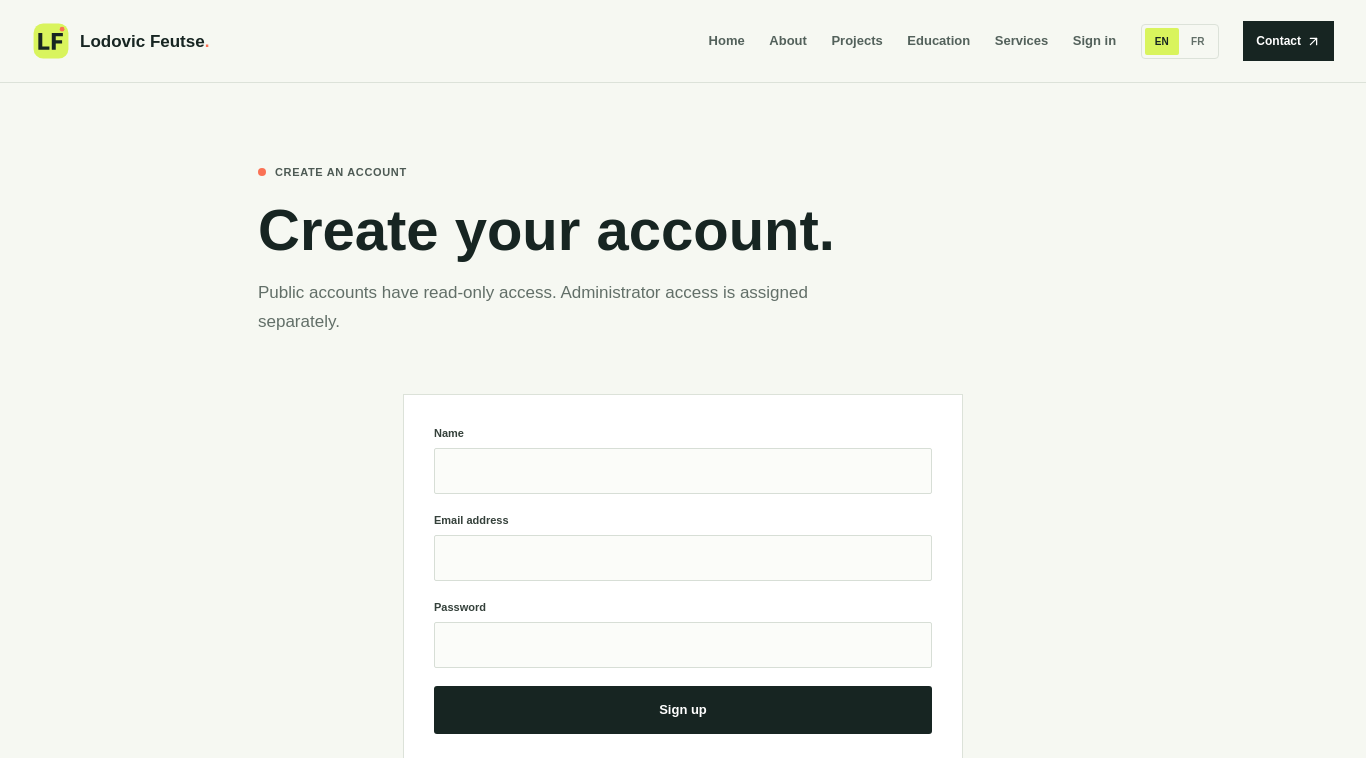
authentication and dashboard › reports an unexpected sign-up failure
This screenshot has width=1366, height=758.
Type "Alex Example" into the field labelled "Name" at (683, 471), box [434,448,932,494]
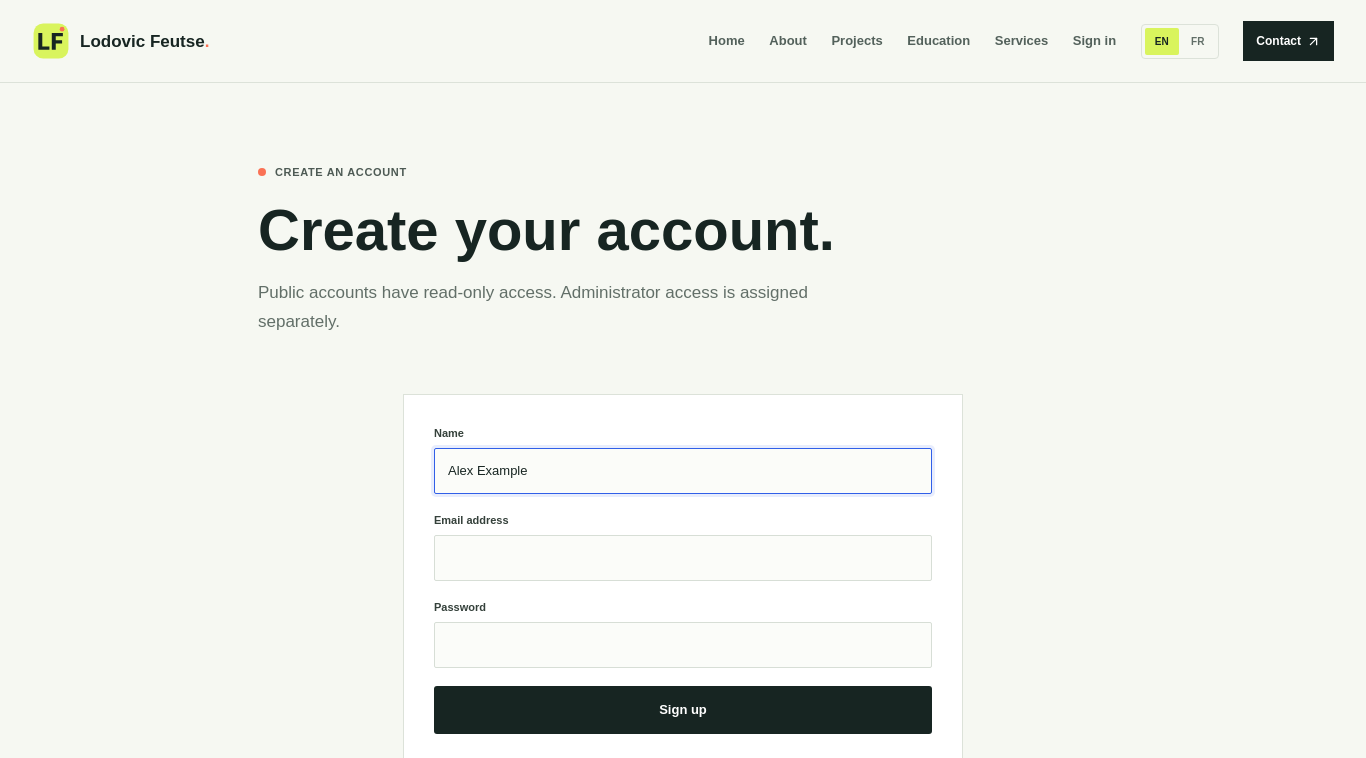
Type "alex@example.test" into the field labelled "Email address" at (683, 558), box [434,535,932,581]
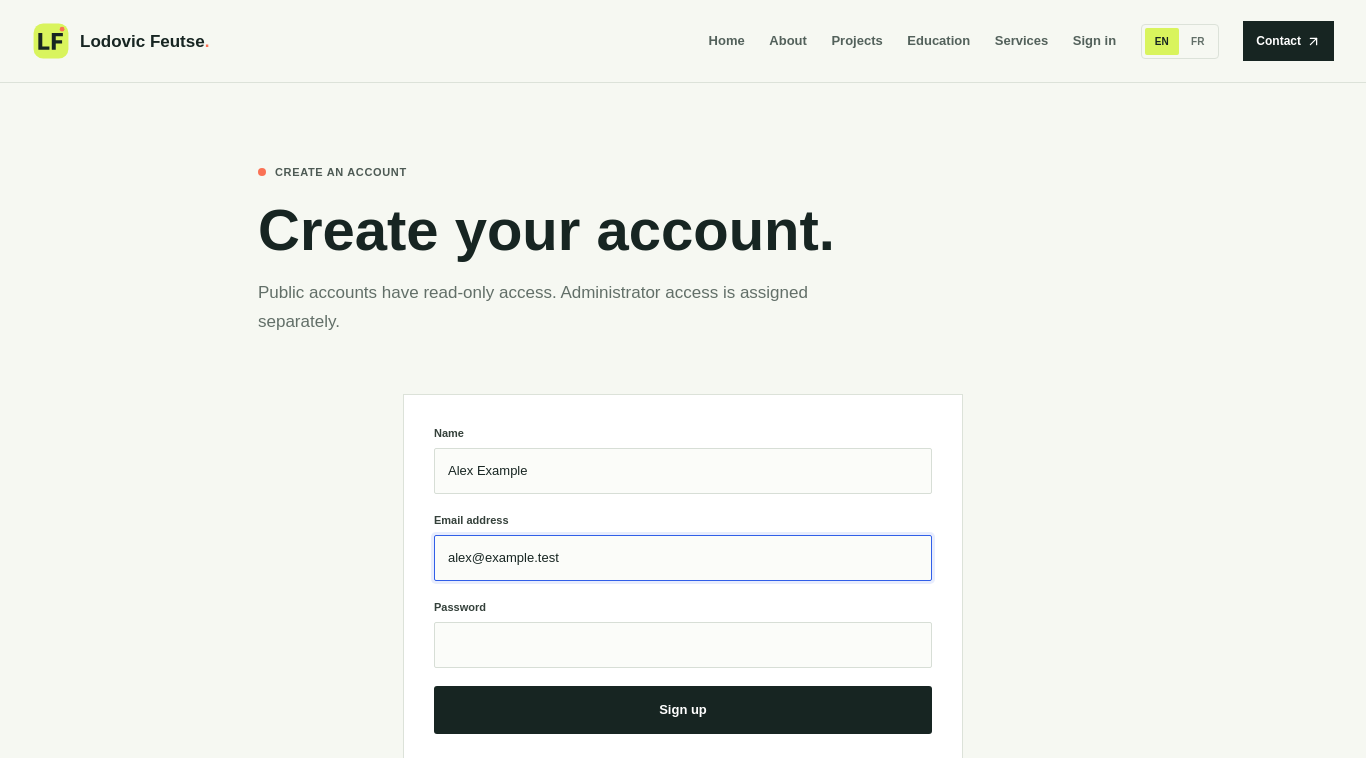
Type "password123" into the password field labelled "Password" at (683, 645), box [434,622,932,668]
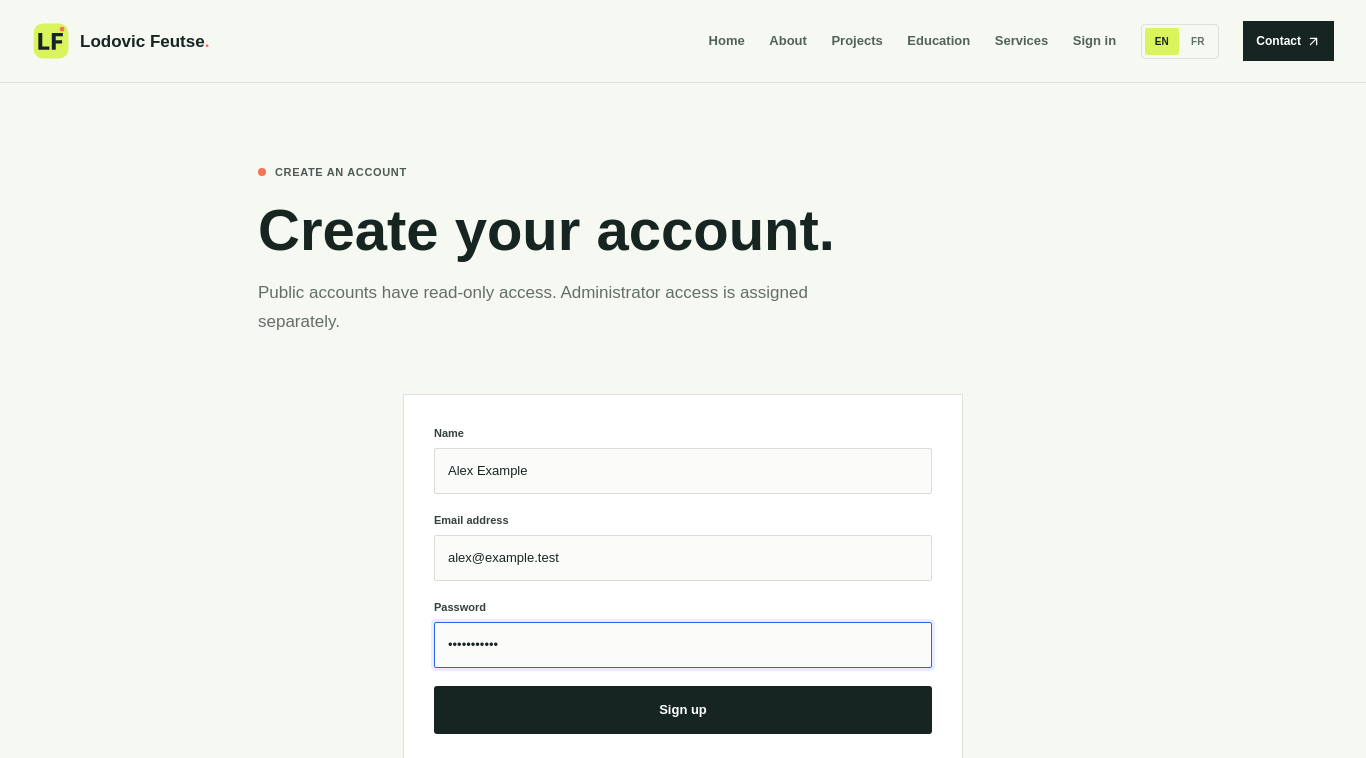
Click the button "Sign up" at (683, 710), box [434,686,932,734]
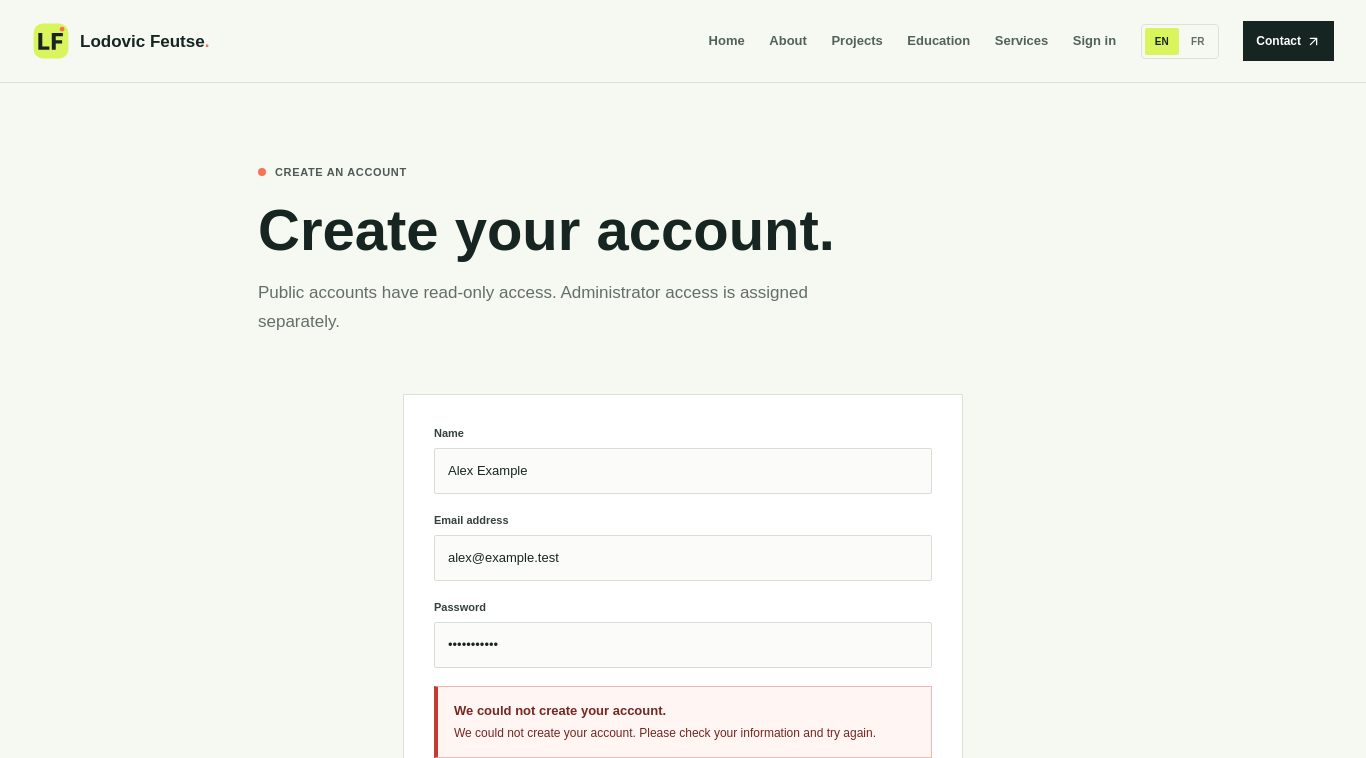
Expected: the message shows "Please check your information and try again", [454,726,876,740]
